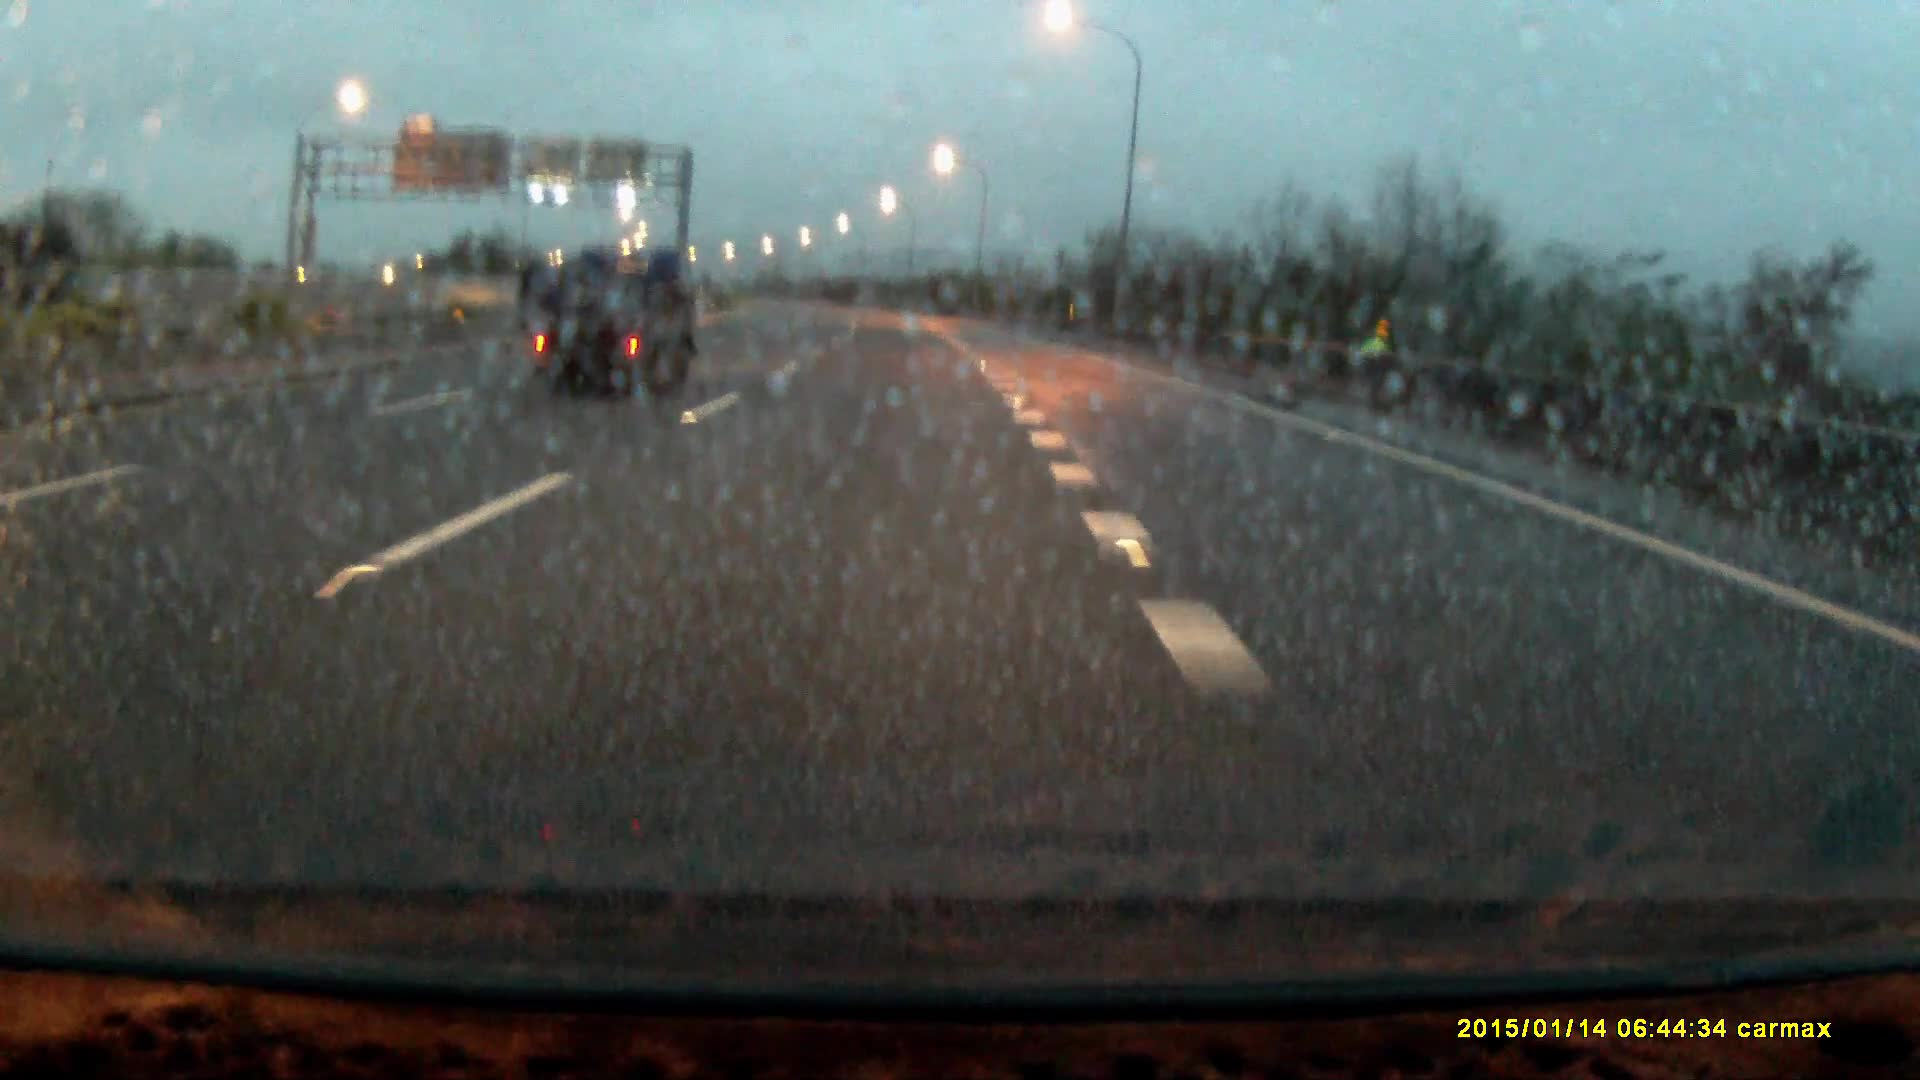vehicle: (525, 251, 704, 401)
